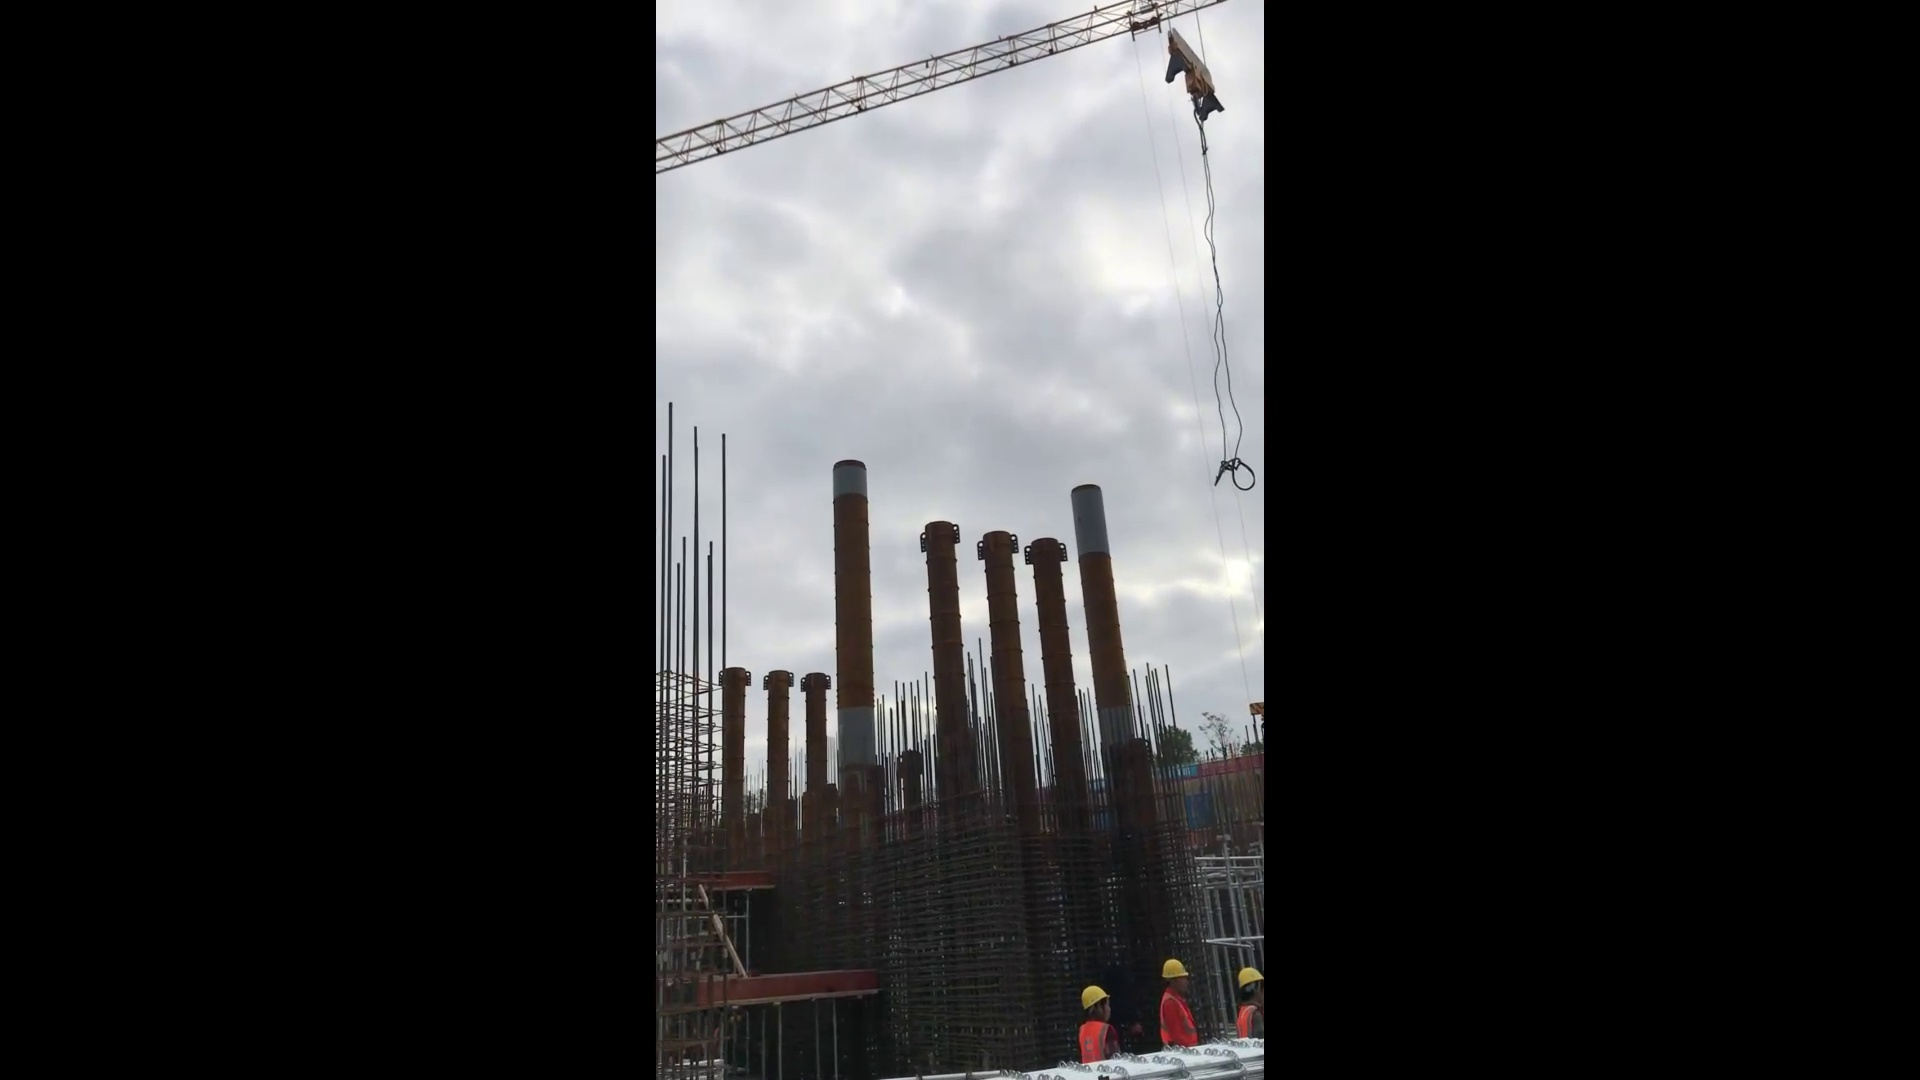helmet: (1077, 982, 1111, 1011), (1236, 962, 1264, 990), (1159, 955, 1191, 980)
hook: (1153, 19, 1229, 131)
person: (1154, 948, 1204, 1056), (1071, 979, 1129, 1070), (1230, 957, 1271, 1046)
vest: (1158, 987, 1199, 1053), (1079, 1019, 1114, 1064), (1233, 1001, 1261, 1044)
